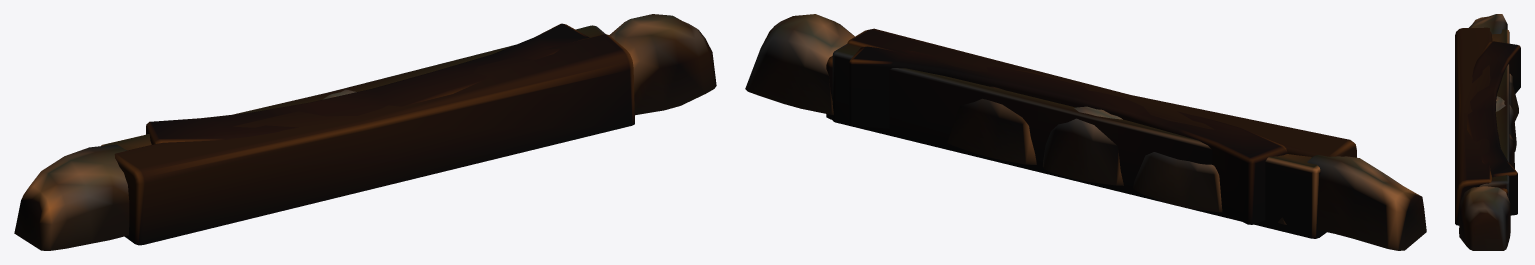
The model's file is ModBorders01.fbx.
The picture shows the model from 3 angles, left to right: view 1: azimuth 30°, elevation 25°; view 2: azimuth 150°, elevation 25°; view 3: azimuth 270°, elevation 25°; orthographic projection. The views are drawn at different scales.
Parts seen in each view (by area): view 1: ModBorder01, ModBorder05, ModBorder02, ModBorder04; view 2: ModBorder05, ModBorder04, ModBorder02, ModBorder01; view 3: ModBorder01, ModBorder05, ModBorder02, ModBorder04.
Part boxes in pixels (box(x1,y1,x2,y2)): ModBorder01: box(114, 34, 634, 245); ModBorder05: box(14, 14, 716, 250); ModBorder02: box(146, 23, 589, 144); ModBorder04: box(101, 25, 605, 150); ModBorder05: box(745, 14, 1426, 250); ModBorder04: box(832, 44, 1326, 238); ModBorder02: box(849, 46, 1287, 224); ModBorder01: box(847, 28, 1356, 157); ModBorder01: box(1455, 27, 1492, 225); ModBorder05: box(1459, 14, 1518, 250); ModBorder02: box(1467, 41, 1520, 215); ModBorder04: box(1479, 29, 1509, 200).
Bounding box in the file's own units: 2.5 × 0.2753 × 0.3332.
